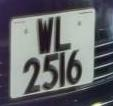1: (57, 50, 68, 91)
2: (19, 53, 43, 98)
5: (40, 54, 61, 92)
6: (66, 47, 85, 89)
L: (54, 10, 74, 56)
W: (35, 13, 58, 56)
